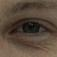eye: (23, 22, 39, 34)
